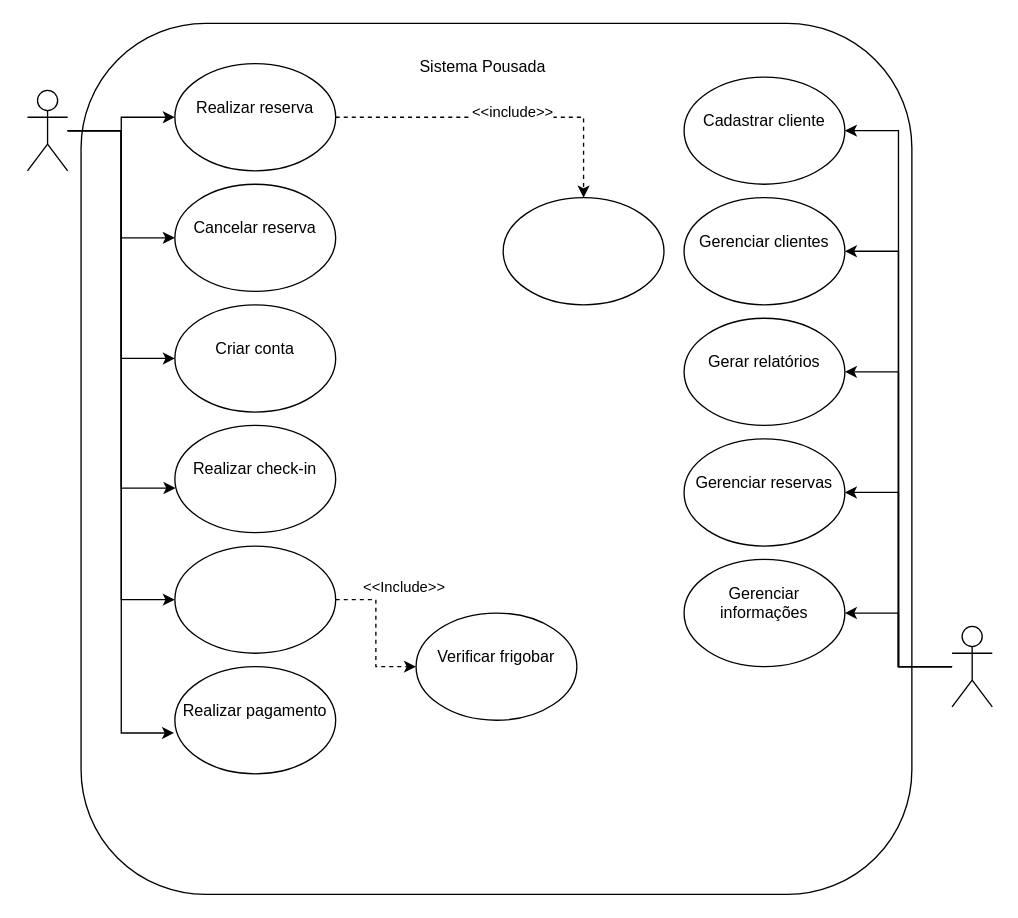
Some shapes in this 1018 by 918 pixel diagram are drawn without their labels. Each missing label, with the box of its shape:
Admin: (951, 625, 992, 707)
Calcular Preço: (502, 196, 664, 305)
Cliente: (26, 89, 68, 171)
Realizar checkout: (174, 545, 336, 653)
